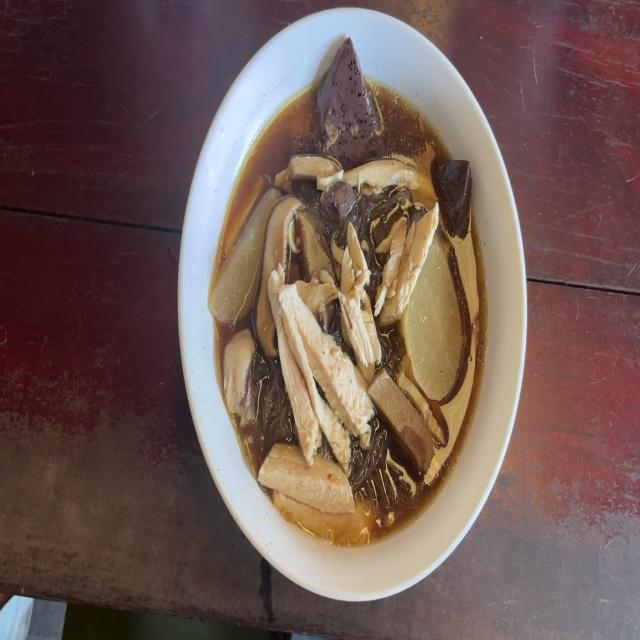noodle: (322, 29, 370, 153), (435, 150, 465, 220), (321, 186, 348, 225)
